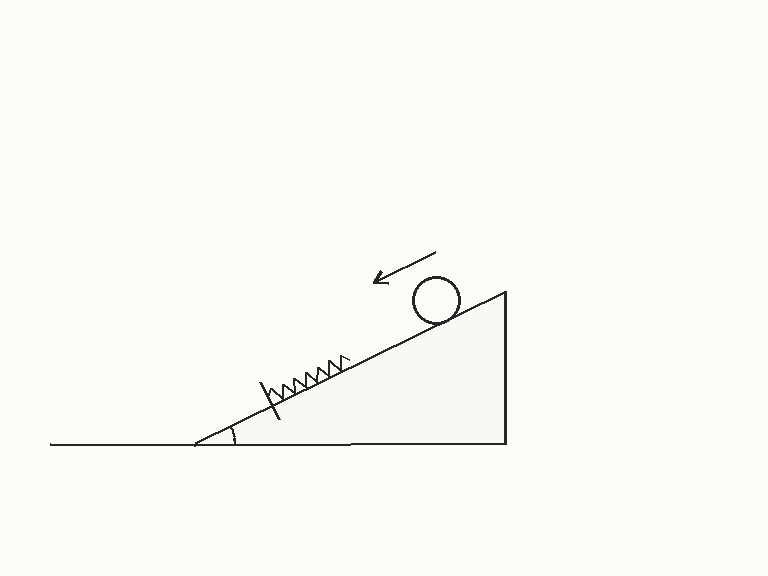ball: (410, 274, 462, 326)
ramp: (193, 291, 507, 446)
spring: (267, 353, 351, 401)
